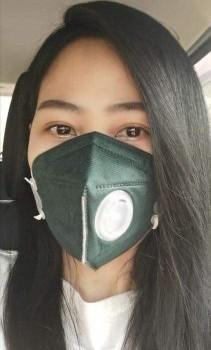n95: (23, 130, 161, 268)
